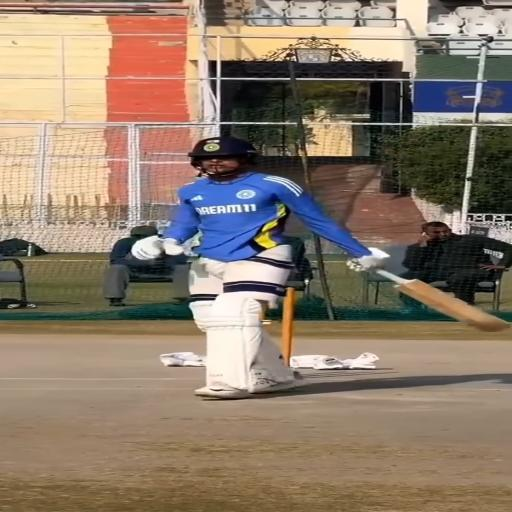Cricket bat: (377, 270, 509, 332)
